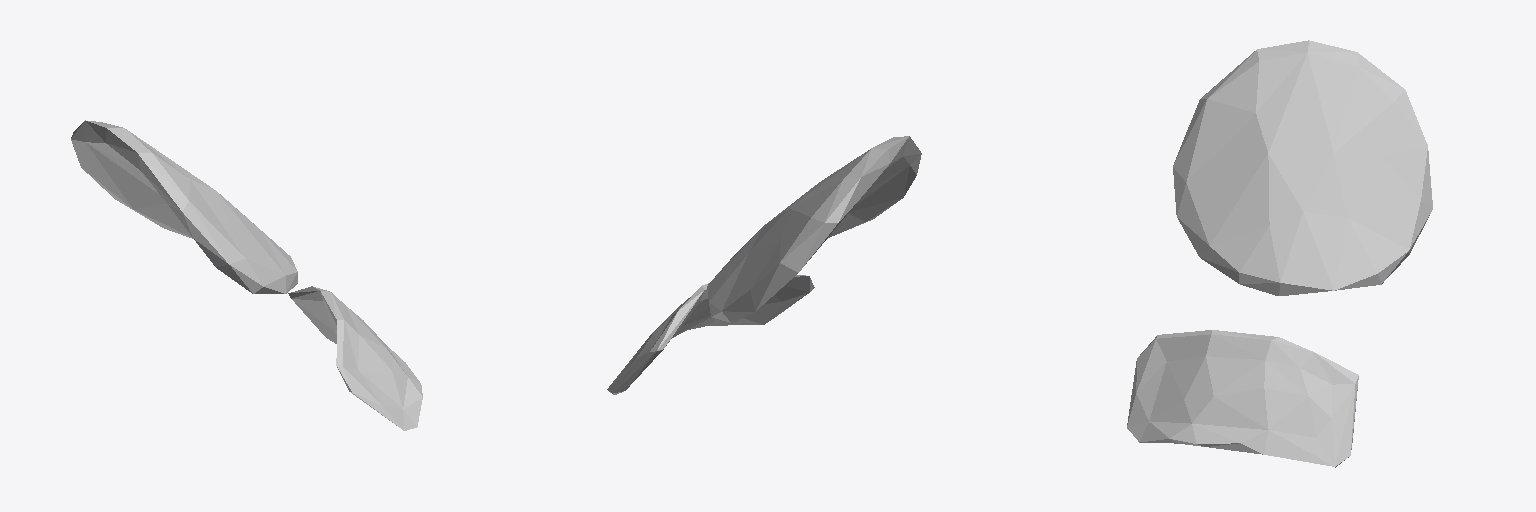
The model's file is Patches.OBJ.
The picture shows the model from 3 angles: view 1: azimuth 30°, elevation 25°; view 2: azimuth 150°, elevation 25°; view 3: azimuth 270°, elevation 25°; orthographic projection.
Visible parts, largest first — view 1: Group31054, Group52658; view 2: Group31054, Group52658; view 3: Group31054, Group52658.
Part boxes in pixels (bbox=[...]): Group31054: bbox=[71, 120, 297, 293]; Group52658: bbox=[288, 286, 422, 430]; Group31054: bbox=[707, 136, 921, 322]; Group52658: bbox=[607, 275, 814, 394]; Group31054: bbox=[1173, 40, 1432, 295]; Group52658: bbox=[1127, 330, 1358, 467].
Size of the model in its own units: 9.37 by 9.86 by 9.13.